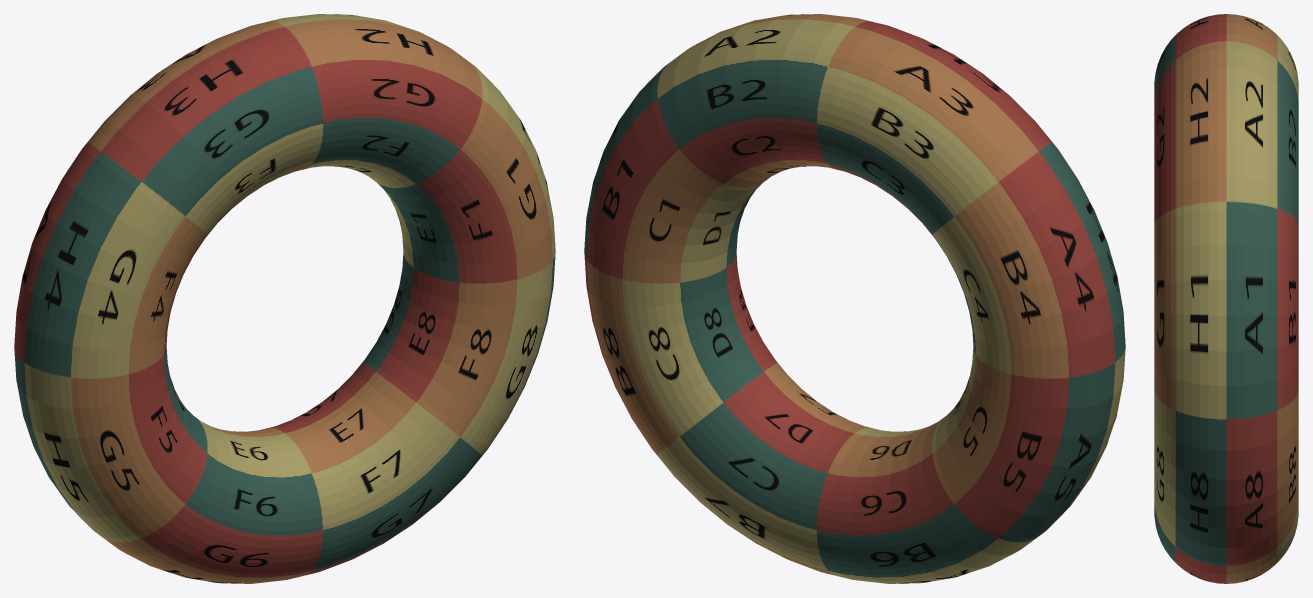
File: texture_torus_R8_r12.glb
3 renders of one model, left to right at view 1: azimuth 30°, elevation 25°; view 2: azimuth 150°, elevation 25°; view 3: azimuth 270°, elevation 25°, orthographic. The views are drawn at different scales.
Visible parts, largest first — view 1: world; view 2: world; view 3: world.
Part boxes in pixels (x1,y1,x2,y2): world: [14, 14, 555, 583]; world: [584, 14, 1125, 583]; world: [1154, 14, 1298, 583].
Size of the model in its own units: 20.53 by 20.49 by 5.19.
Materials: 1 (1 with a texture image).
